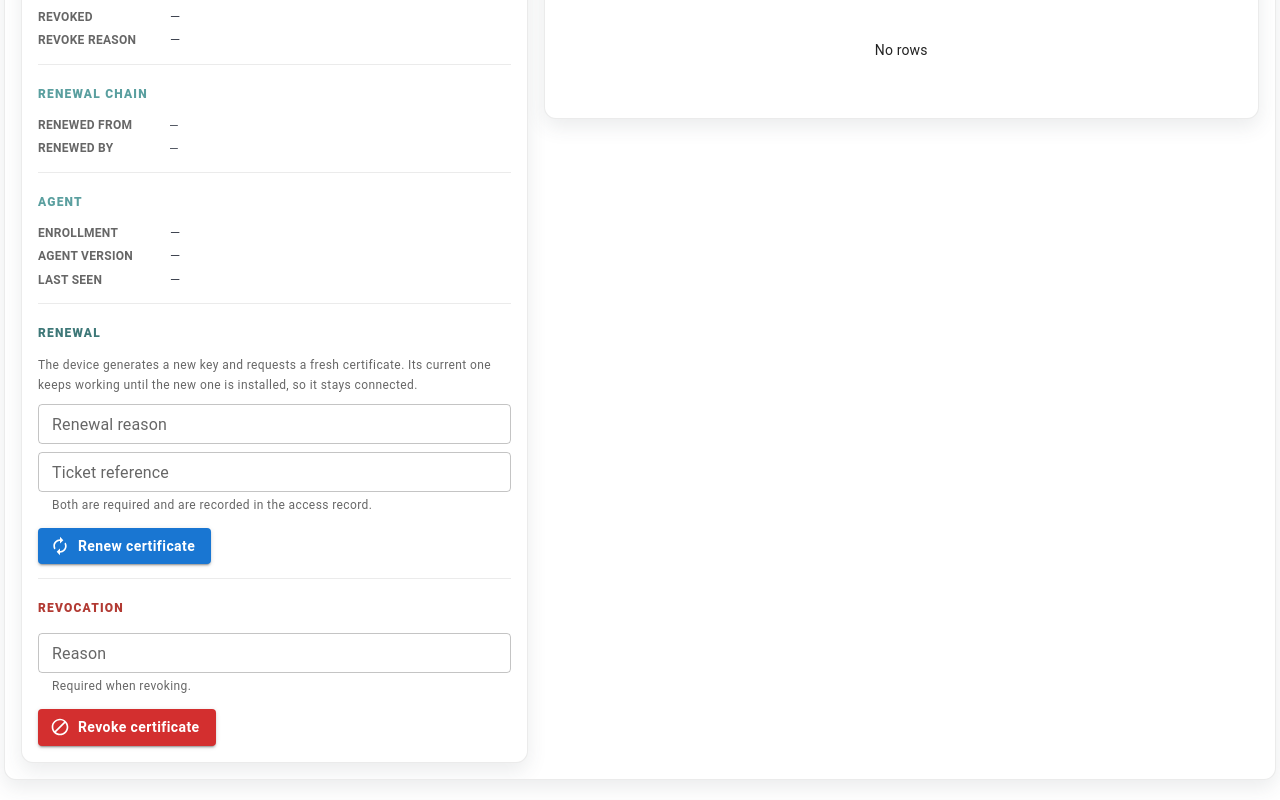
it: PKI — renovar la identidad de un equipo › ⚠️ cada rechazo con nombre propio dice QUÉ hacer
This screenshot has width=1280, height=800.
(page scrolled)
Type "corte a la G2" into the field labelled "Renewal reason" at [274, 424], box [38,404,510,444]
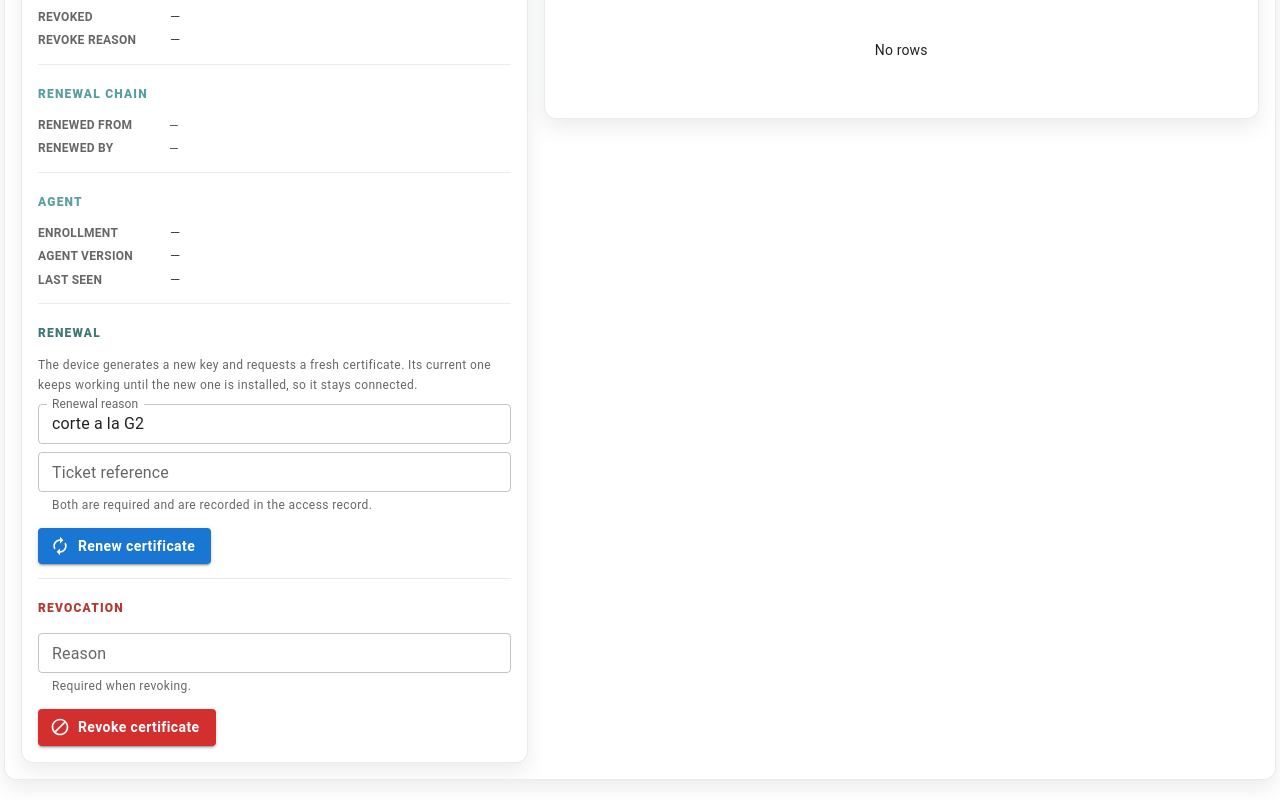
Type "ADR-0015-ring-1" into the field labelled "Ticket reference" at [274, 472], box [38,452,510,492]
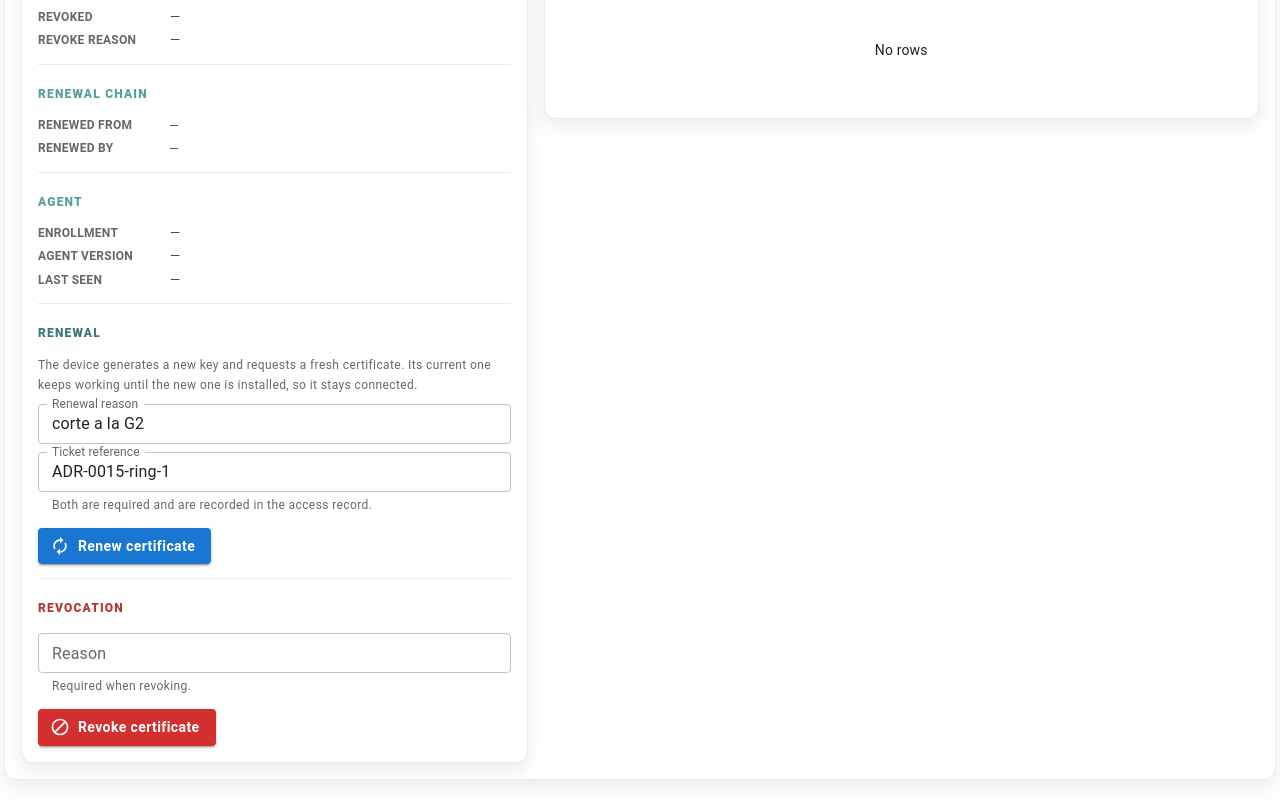
Click the button "Renew certificate" at [125, 546], box [38,528,211,564]
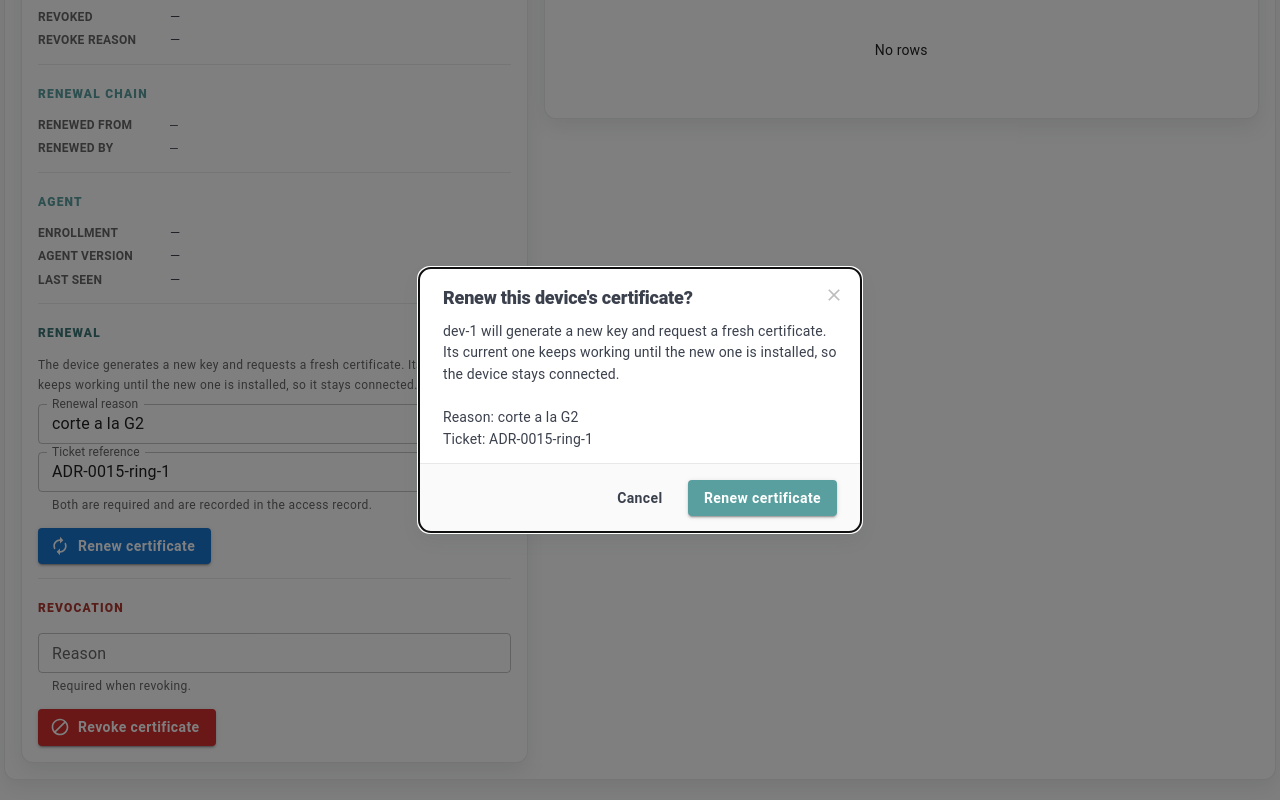
Click the button "Renew certificate" at [762, 498], box [688,480,837,516]
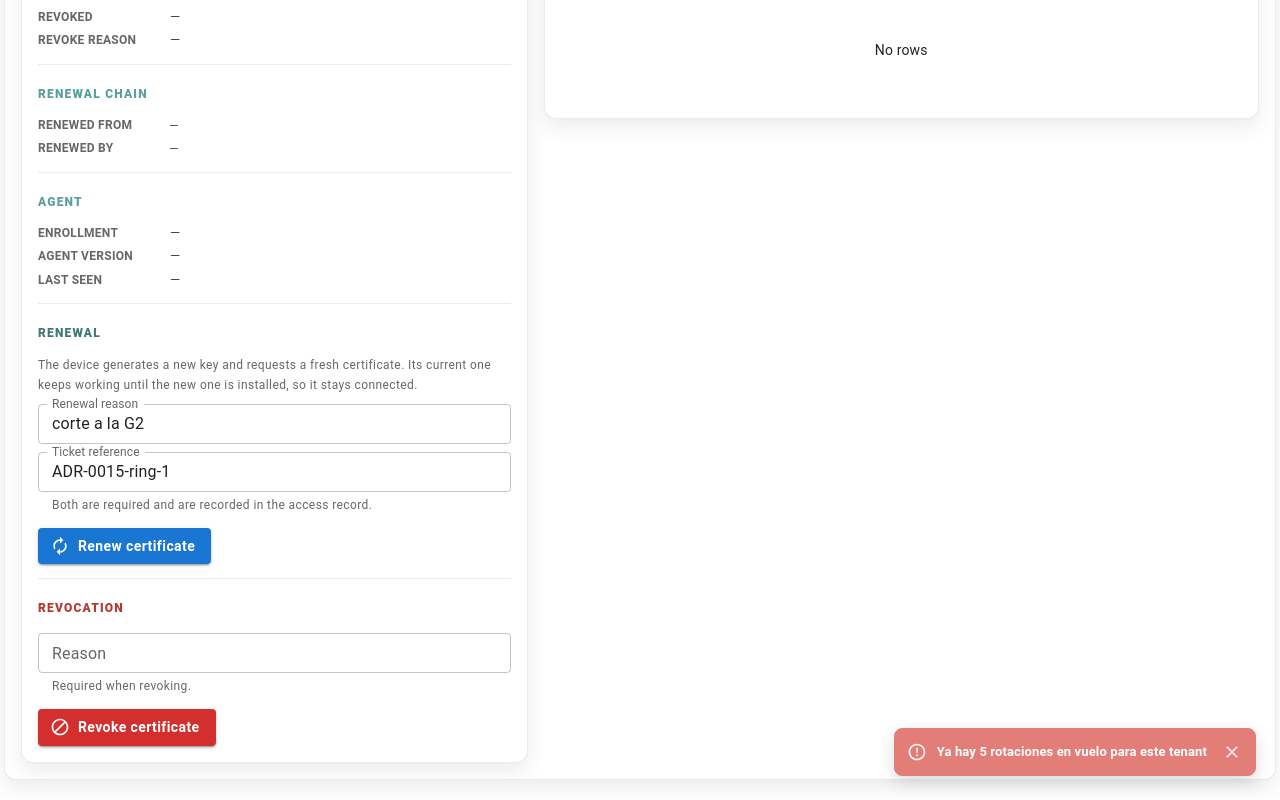
Expected: the text "Ya hay 5 rotaciones en vuelo para este tenant" is shown, [937,743,1207,761]
